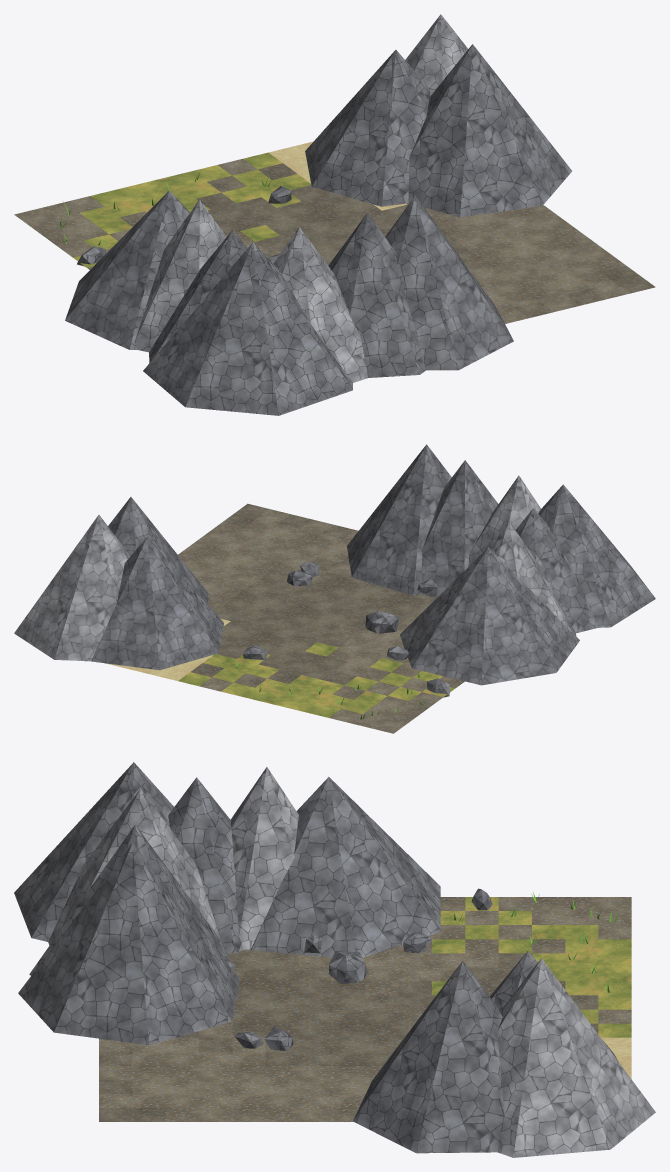
File: chunk_11_18.glb
3 renders of one model, top to bottom at view 1: azimuth 30°, elevation 25°; view 2: azimuth 150°, elevation 25°; view 3: azimuth 270°, elevation 25°, orthographic. The views are drawn at different scales.
Parts seen in each view (by area): view 1: chunk_11_18; view 2: chunk_11_18; view 3: chunk_11_18.
Part boxes in pixels (left/top/right/bottom): chunk_11_18: left=14, top=14, right=655, bottom=415; chunk_11_18: left=14, top=444, right=655, bottom=733; chunk_11_18: left=14, top=762, right=655, bottom=1157.
Bounding box in the file's own units: 21.32 × 5.61 × 19.28.
7 materials, 6 textured.
